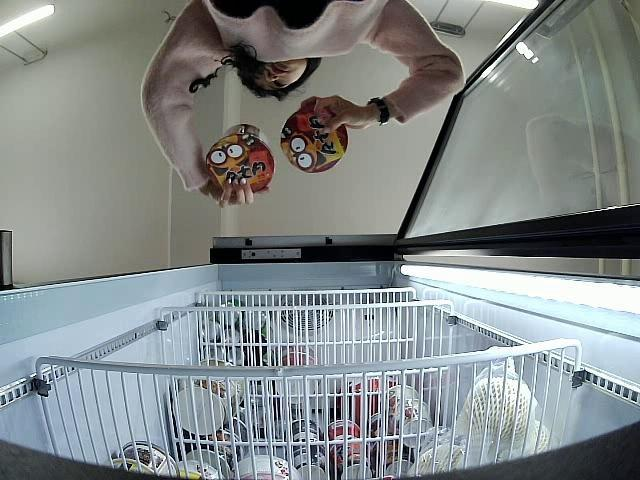05_nuguri_L: (204, 122, 275, 194), (278, 107, 349, 176)
